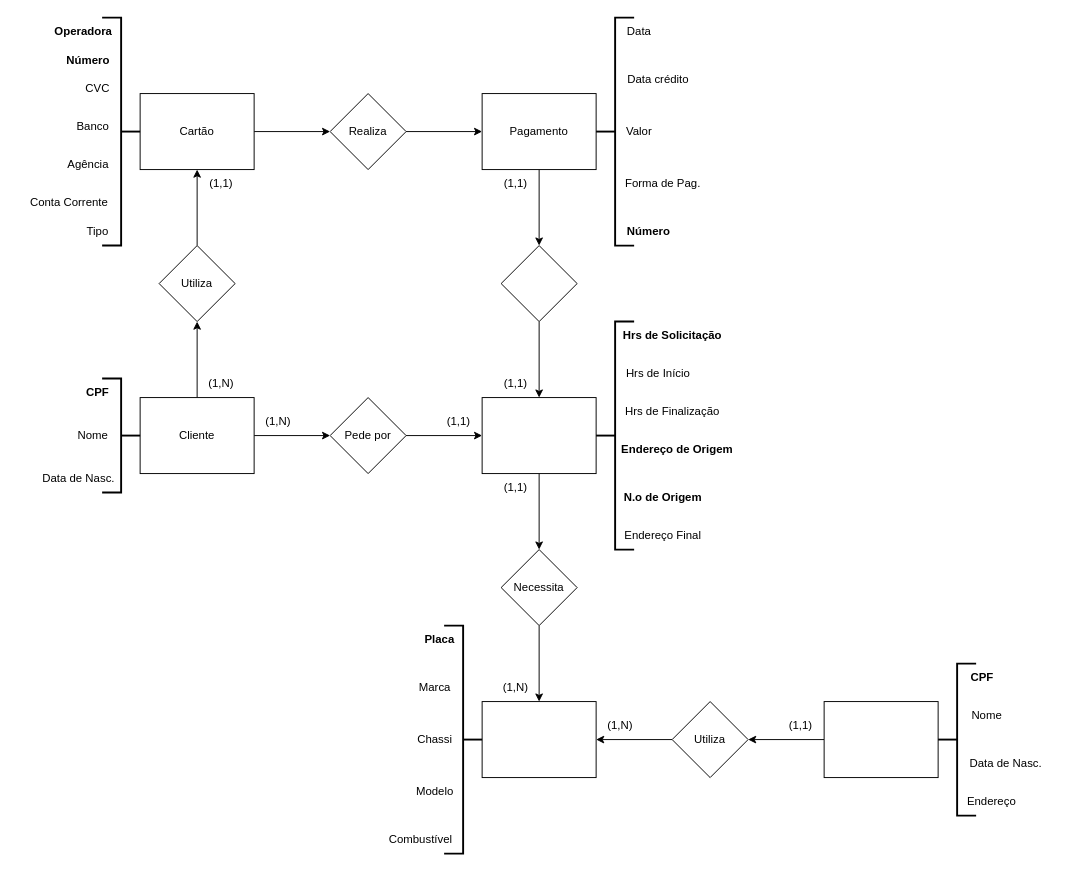
This 1069x870 diagram has some shape labels left out. Each missing label, with the centre of its shape:
Corrida: (x=538, y=435)
Pela: (x=538, y=283)
Taxista/Motorista: (x=880, y=739)
Veículo/Táxi: (x=538, y=739)
